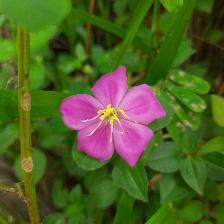malabar melastome: (59, 66, 170, 170)
